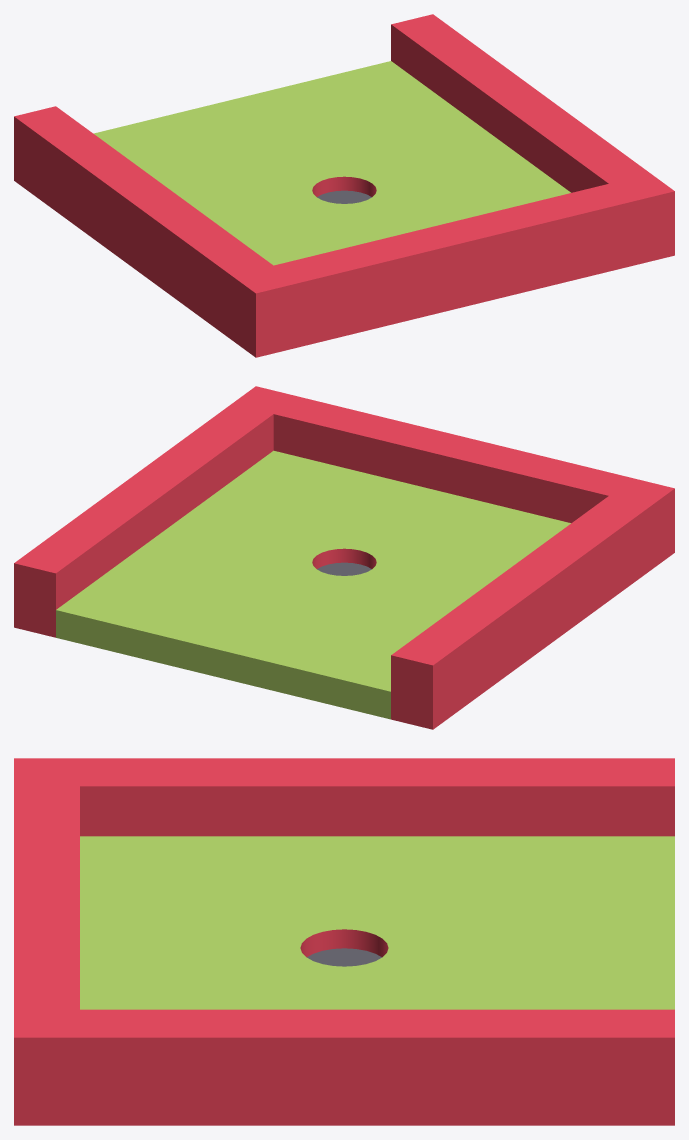
Rendered from holeSquare.fbx.
3 renders of one model, top to bottom at view 1: azimuth 30°, elevation 25°; view 2: azimuth 150°, elevation 25°; view 3: azimuth 270°, elevation 25°, orthographic. The views are drawn at different scales.
Visible parts, largest first — view 1: holeSquare; view 2: holeSquare; view 3: holeSquare.
Boxes of the visible parts, left/top/right/bottom form: holeSquare: left=14, top=14, right=674, bottom=357; holeSquare: left=14, top=386, right=674, bottom=729; holeSquare: left=14, top=758, right=674, bottom=1125.
Size of the model in its own units: 10 by 1.47 by 10.
